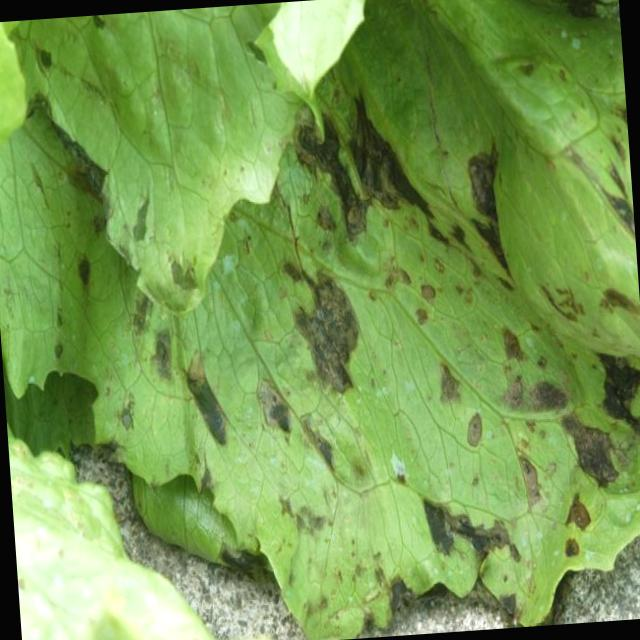Healthy: (286, 185, 583, 556)
